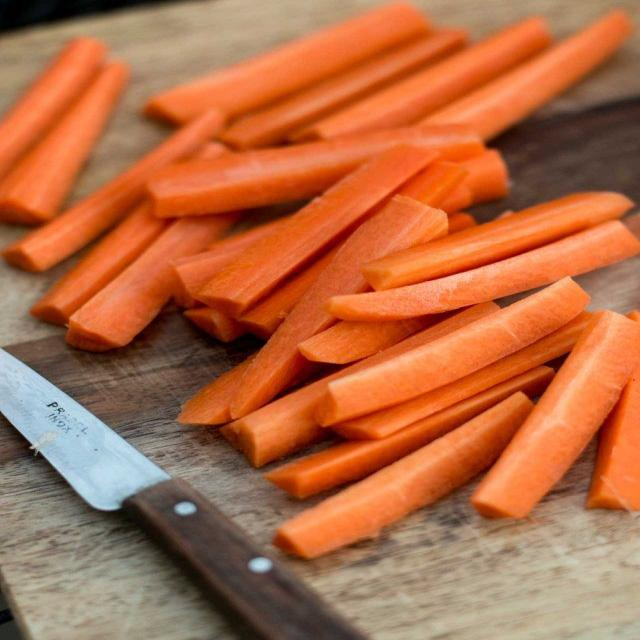carrot: (231, 196, 446, 418), (223, 303, 498, 466), (274, 393, 532, 557), (196, 146, 435, 316), (317, 278, 589, 425), (265, 367, 554, 498), (2, 112, 222, 271), (472, 311, 639, 517), (145, 2, 429, 122), (332, 312, 590, 439), (326, 220, 639, 321), (148, 126, 483, 217), (307, 17, 550, 139), (220, 29, 466, 149), (422, 10, 632, 139), (363, 192, 632, 289), (66, 214, 237, 350), (0, 62, 128, 224), (31, 202, 169, 324), (31, 203, 169, 324), (0, 38, 105, 176), (173, 220, 281, 308), (239, 248, 336, 340), (586, 369, 639, 510), (586, 370, 639, 510), (298, 315, 441, 363), (177, 357, 250, 425), (441, 150, 508, 212), (398, 161, 467, 207), (461, 149, 508, 204), (184, 308, 246, 342), (441, 185, 473, 212), (448, 212, 477, 234), (197, 142, 230, 159), (495, 210, 514, 219), (627, 310, 639, 321)
